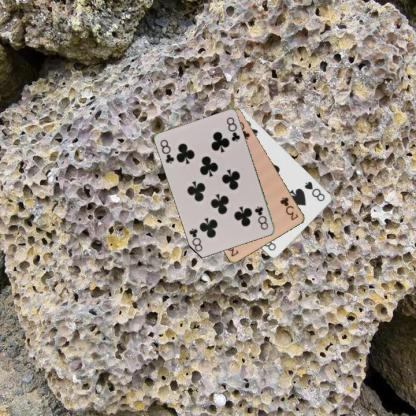3c: (278, 195, 300, 222)
8c: (158, 136, 176, 166), (252, 203, 270, 231)
8s: (302, 178, 327, 202)
